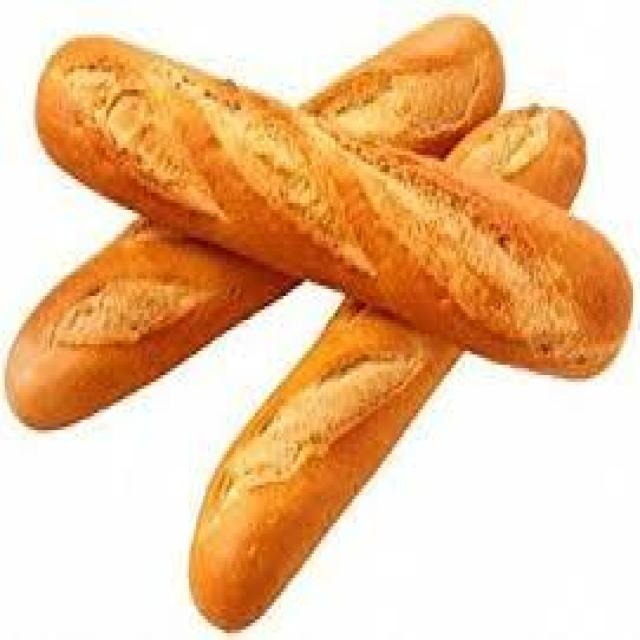organic: (2, 14, 635, 633)
